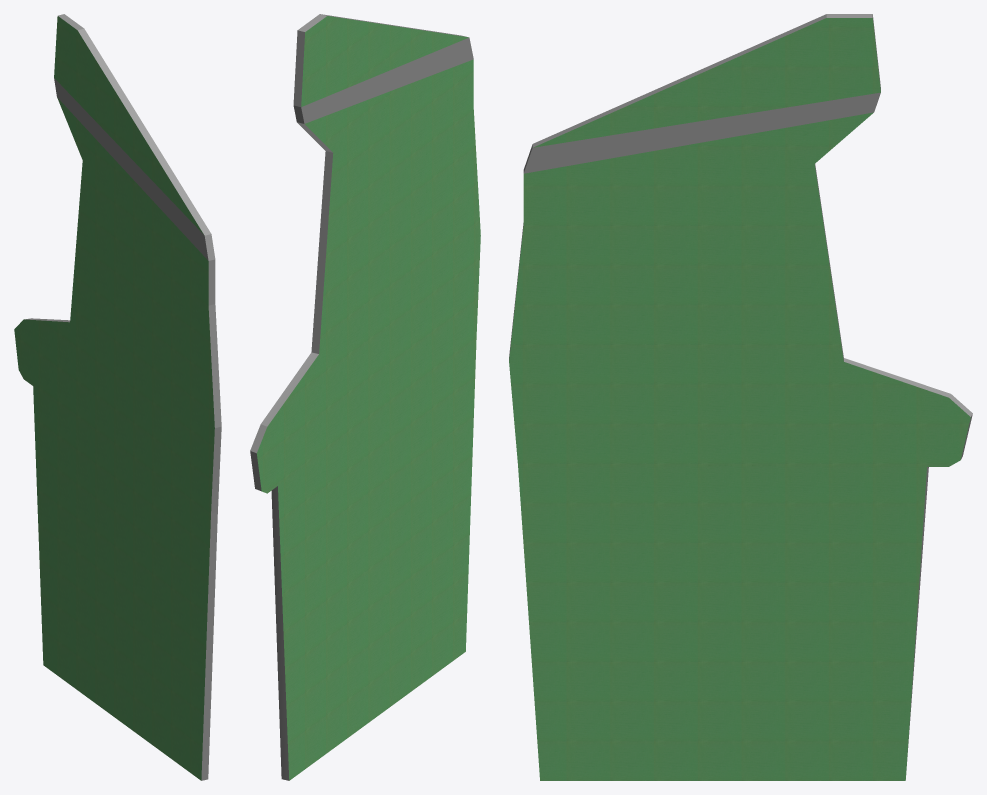
The picture shows the model from 3 angles, left to right: view 1: azimuth 30°, elevation 25°; view 2: azimuth 150°, elevation 25°; view 3: azimuth 270°, elevation 25°; orthographic projection. The views are drawn at different scales.
Parts seen in each view (by area): view 1: Aleta Izquierda; view 2: Aleta Izquierda; view 3: Aleta Izquierda.
Boxes of the visible parts, x1,y1,x2,y2 form: Aleta Izquierda: [14, 14, 221, 780]; Aleta Izquierda: [250, 14, 480, 780]; Aleta Izquierda: [509, 14, 972, 780].
Bounding box in the file's own units: 20.93 × 1925 × 1061.
